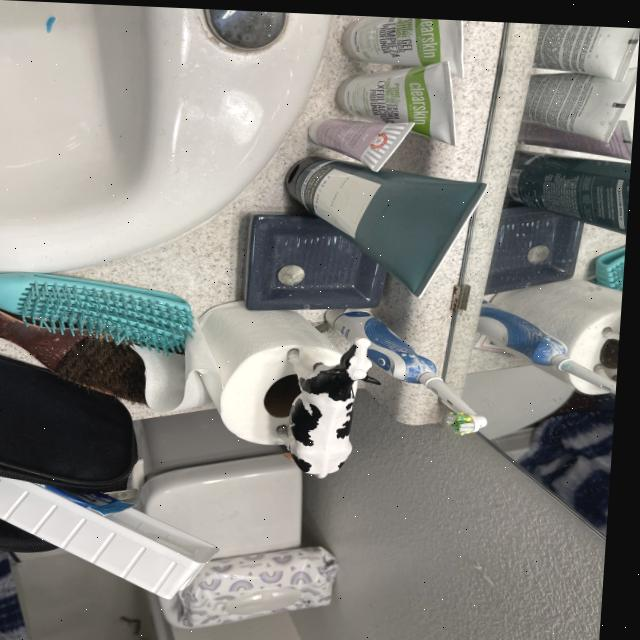cow: (290, 338, 365, 476)
